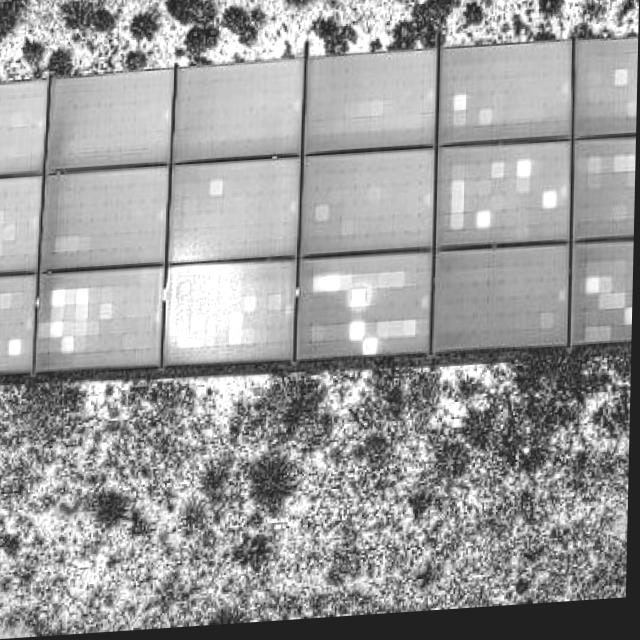Hotspot: (0, 35, 640, 371)
